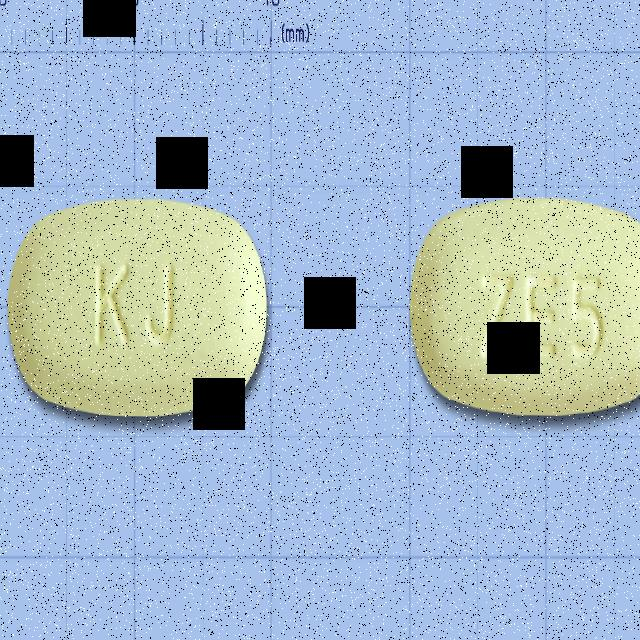Jecla: (8, 196, 268, 420), (409, 195, 640, 417)
